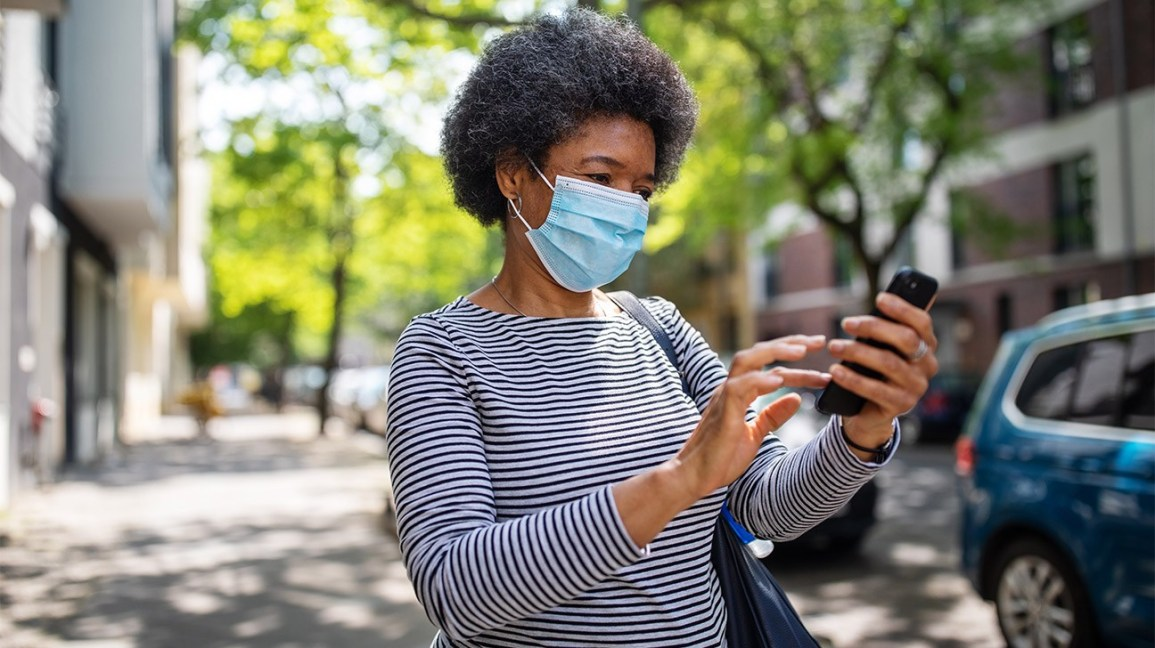Person: (359, 7, 921, 648)
